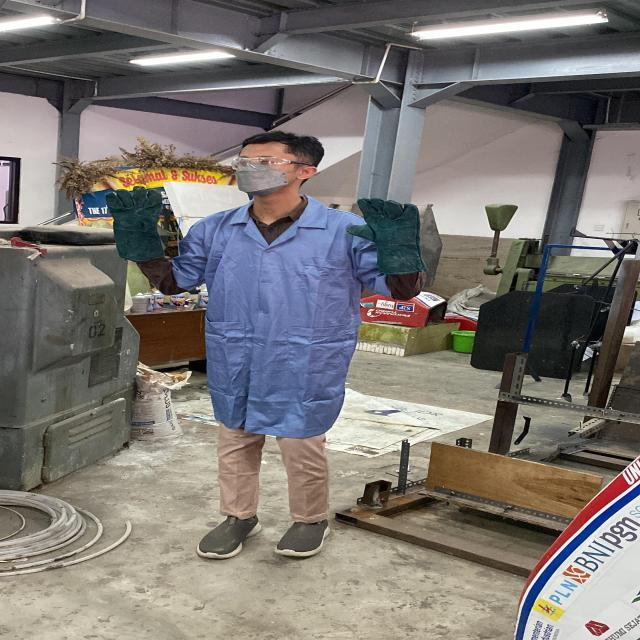boots: (188, 507, 274, 564), (268, 512, 341, 563)
gloves: (341, 196, 428, 248), (100, 184, 172, 238)
